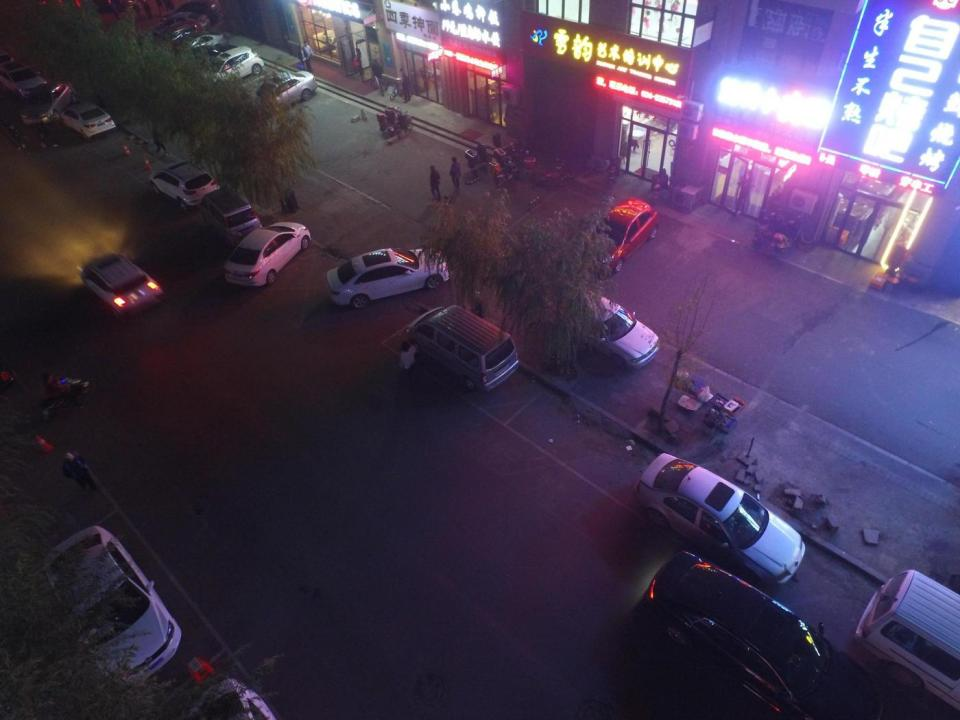car: (645, 550, 883, 720), (42, 526, 181, 686), (635, 452, 806, 582), (557, 286, 659, 367), (326, 248, 450, 308), (581, 198, 659, 272), (222, 222, 310, 286), (80, 252, 163, 319), (149, 160, 219, 212), (242, 71, 318, 118), (195, 46, 264, 90), (176, 44, 240, 86), (166, 31, 229, 73), (20, 80, 76, 123), (60, 100, 116, 140), (0, 59, 47, 98), (158, 21, 202, 55), (148, 12, 209, 36), (173, 1, 219, 23)
van: (853, 569, 960, 712), (406, 305, 518, 394), (199, 188, 264, 249)
